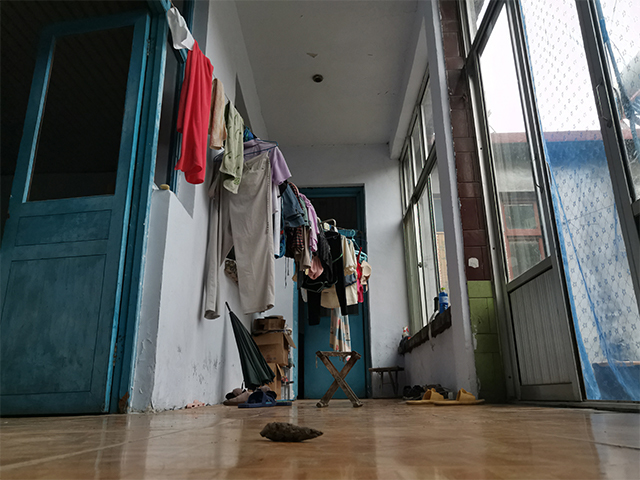feces: (257, 420, 326, 444)
slippers: (237, 388, 294, 409), (432, 386, 488, 406), (412, 386, 443, 404)
stool: (314, 349, 366, 410), (366, 365, 408, 400)
